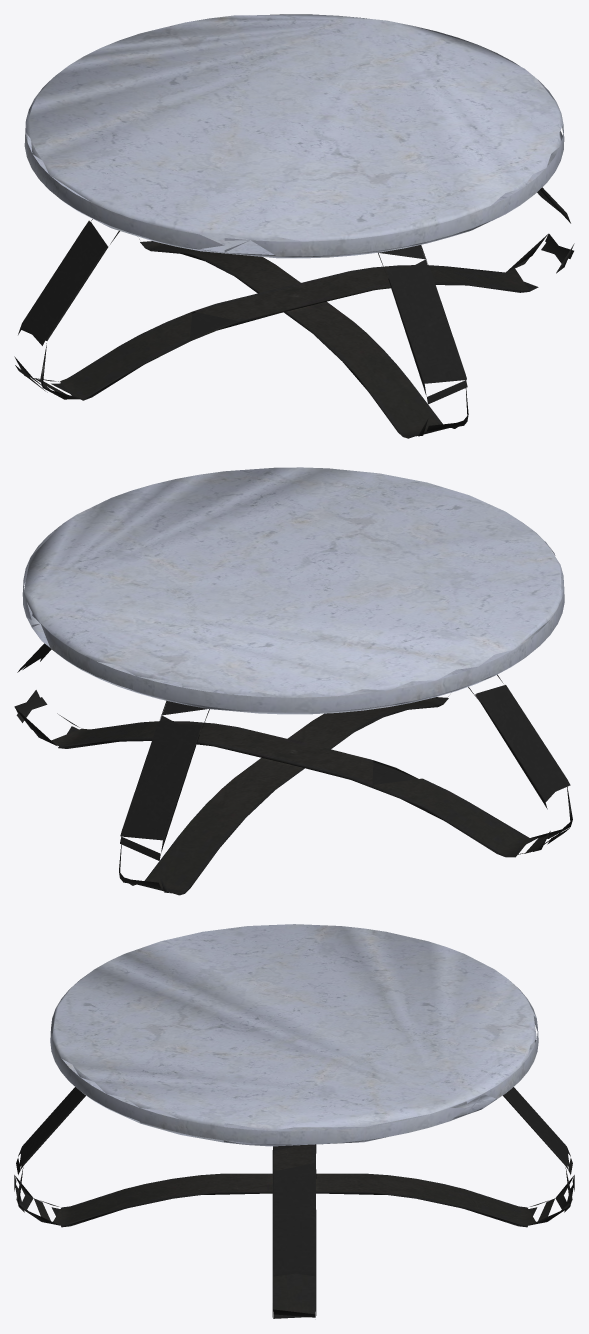
Rendered from coffee_table_round_01_1k.glb.
3 renders of one model, top to bottom at view 1: azimuth 30°, elevation 25°; view 2: azimuth 150°, elevation 25°; view 3: azimuth 270°, elevation 25°, orthographic. The views are drawn at different scales.
Parts seen in each view (by area): view 1: coffee_table_round_01; view 2: coffee_table_round_01; view 3: coffee_table_round_01.
Part boxes in pixels (left/top/right/bottom): coffee_table_round_01: left=14, top=14, right=574, bottom=438; coffee_table_round_01: left=14, top=467, right=572, bottom=895; coffee_table_round_01: left=14, top=924, right=574, bottom=1318.
Size of the model in its own units: 1.29 by 0.4909 by 1.29.
Materials: 1 (1 with a texture image).
